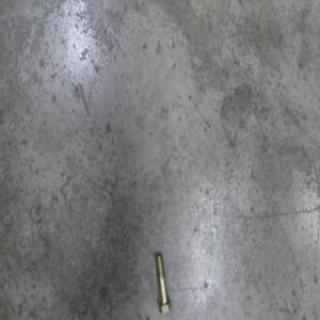Bolttrack_idkeyframe: (153, 252, 172, 314)
